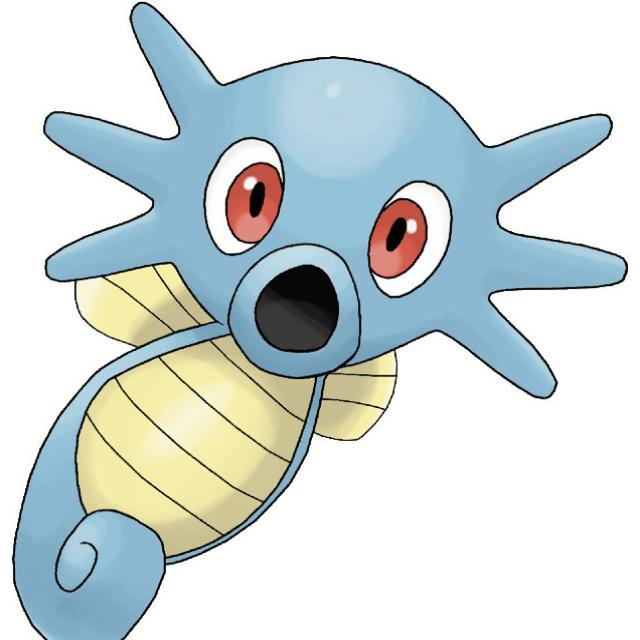Horsea: (0, 20, 605, 640)
